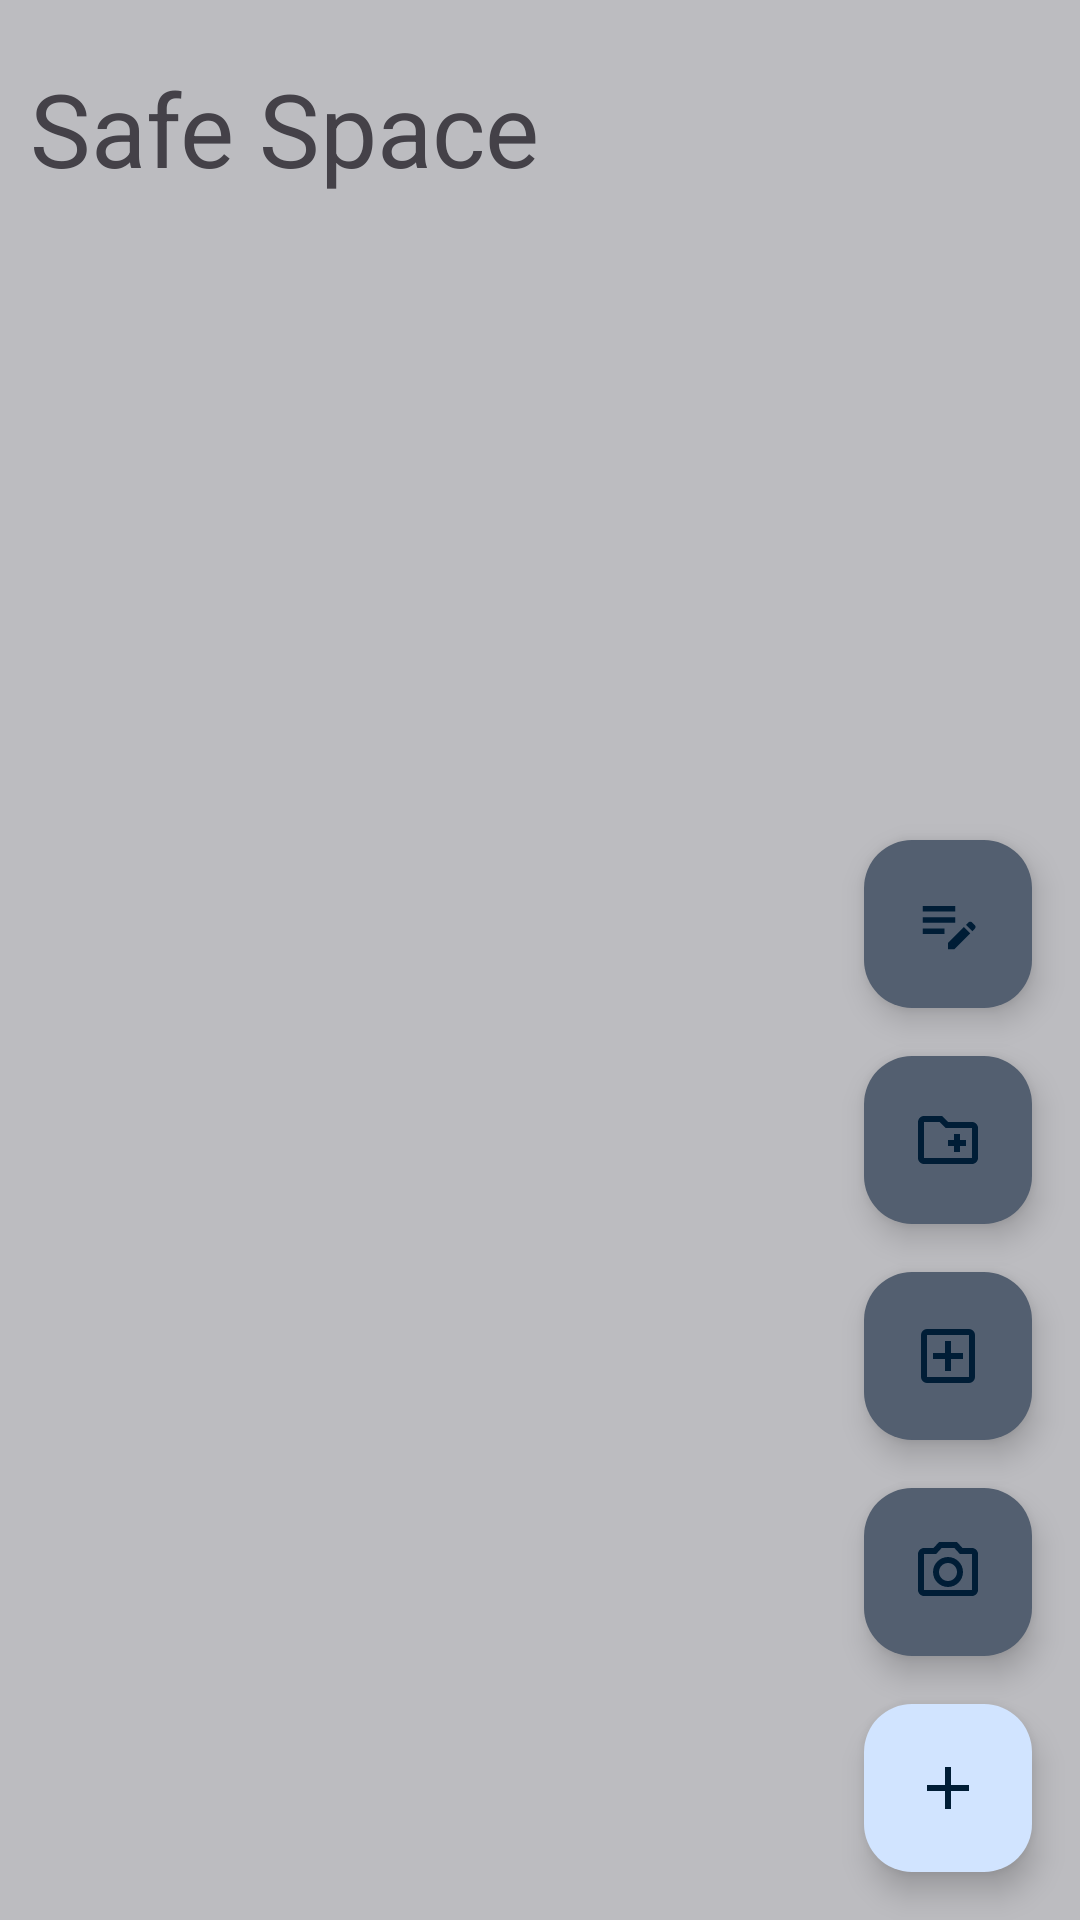

Icon click points for this 1080×1920 phone screenshot, format point (x, y):
add: point (948, 1788)
Camera: point (948, 1572)
File: point (948, 1356)
Folder: point (948, 1140)
Note: point (948, 924)
